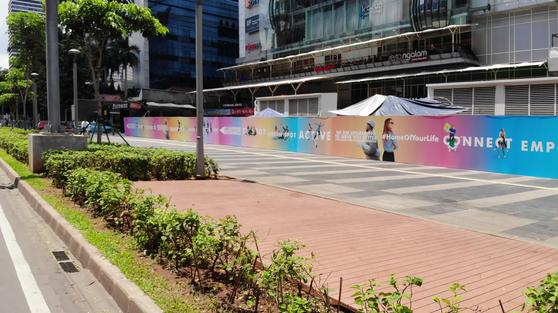bike: (75, 123, 97, 143)
